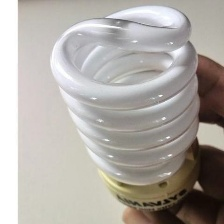light_bulb: (48, 3, 204, 216)
